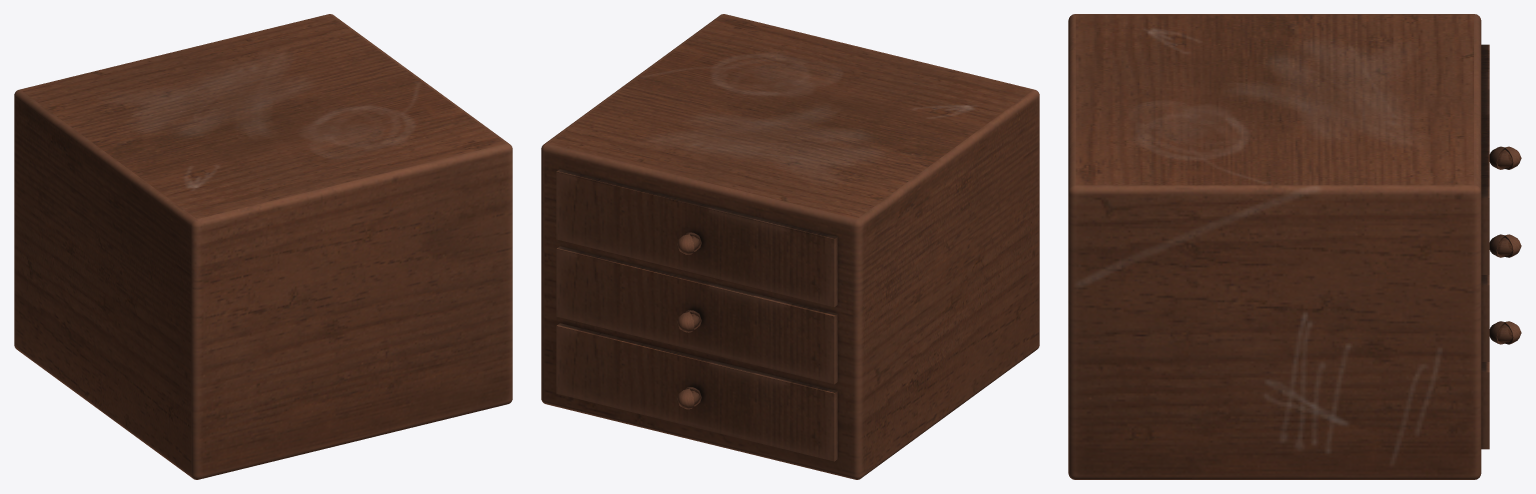
Rendered from nocni_stolek.fbx.
3 renders of one model, left to right at view 1: azimuth 30°, elevation 25°; view 2: azimuth 150°, elevation 25°; view 3: azimuth 270°, elevation 25°, orthographic. The views are drawn at different scales.
Parts seen in each view (by area): view 1: komoda_3; view 2: komoda_3; view 3: komoda_3.
Boxes of the visible parts, <box> form: komoda_3: <box>14,14,512,479</box>; komoda_3: <box>541,14,1039,479</box>; komoda_3: <box>1068,14,1521,479</box>.
Size of the model in its own units: 116 by 90.04 by 126.
Materials: 1 (1 with a texture image).
